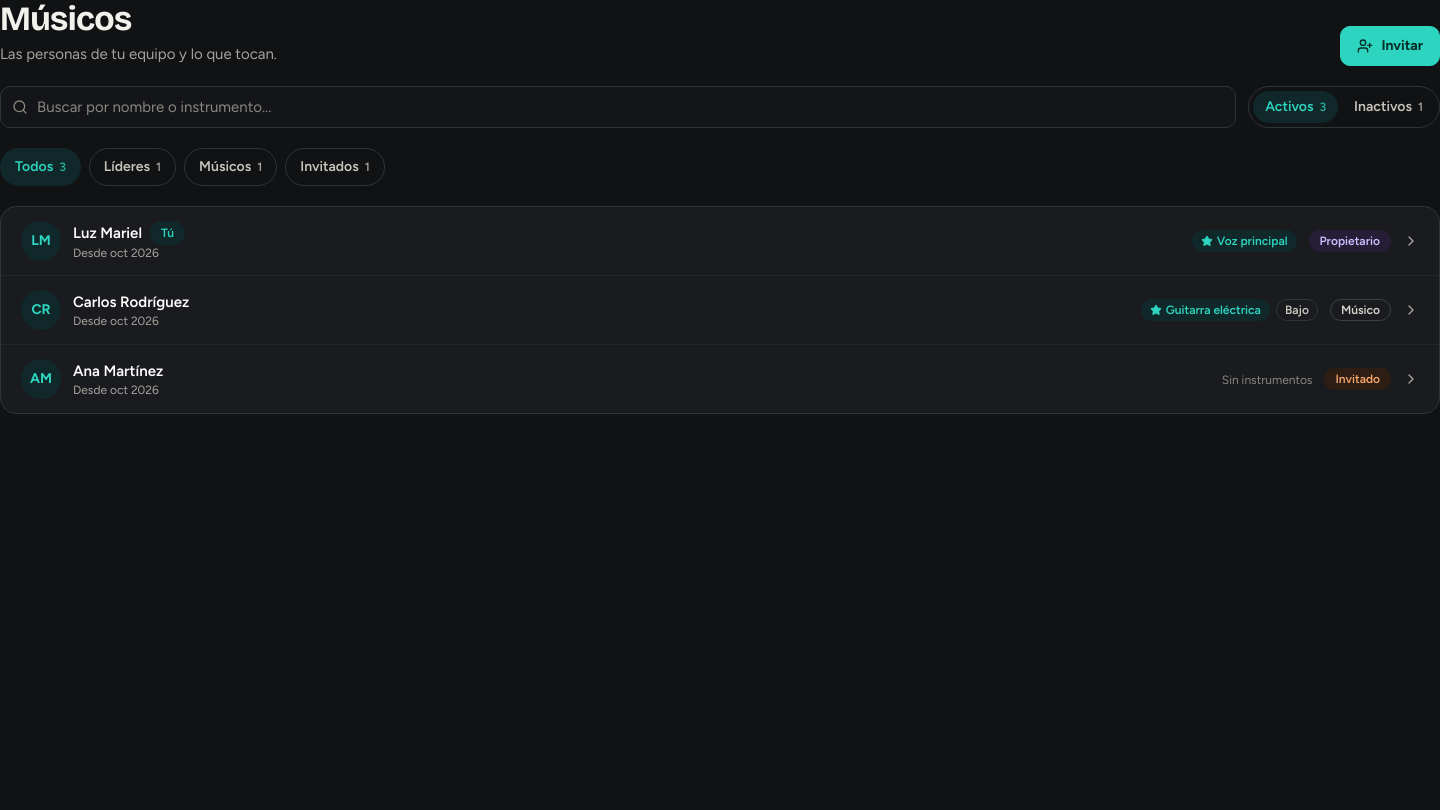
Test: MusiciansPage › muestra el error de la API al guardar
What coordinates should you click on to do the following:
click the button with aria-label "Ver ficha de Luz Mariel"
I would click on:
 (41, 241)
Its box is [1,207,1439,275].
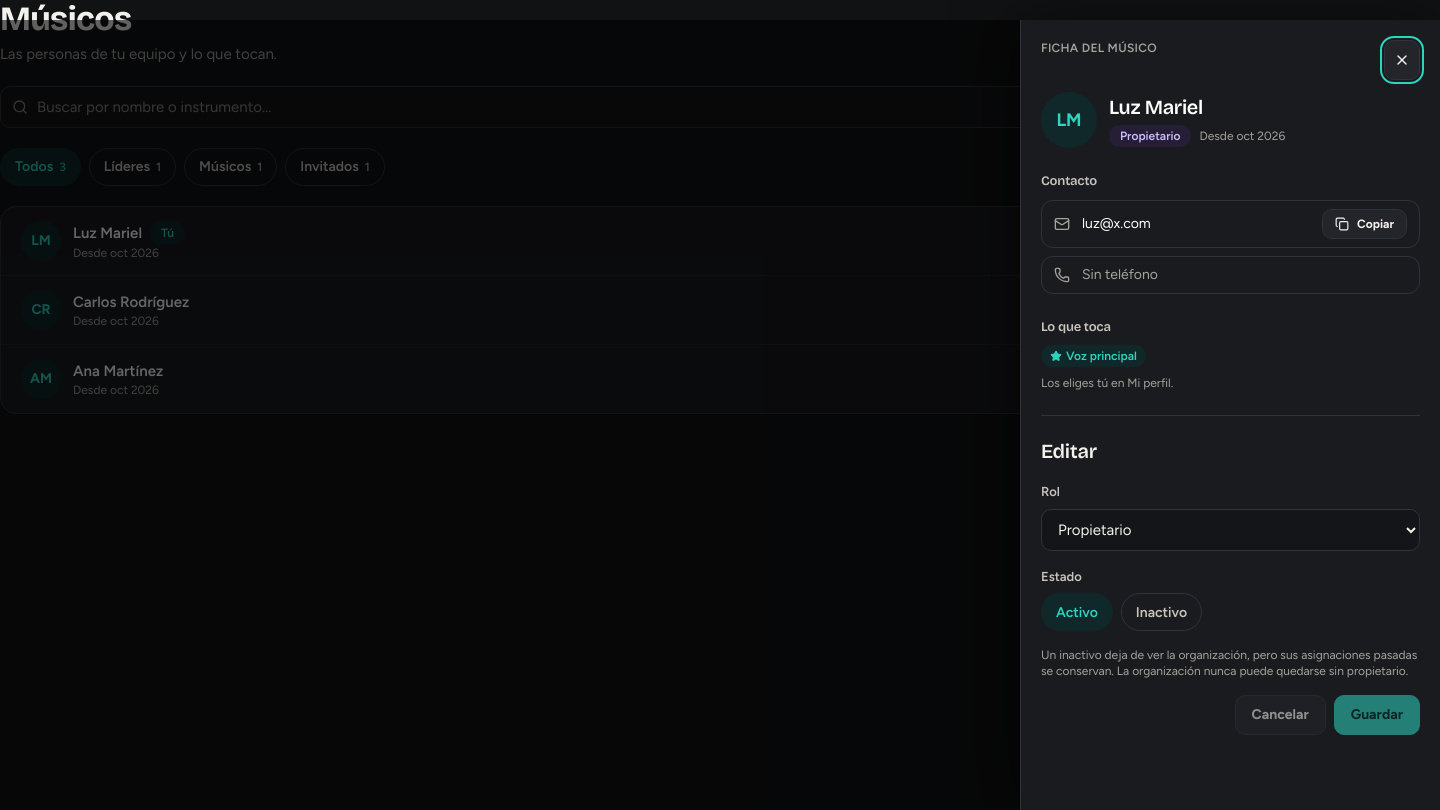
What coordinates should you click on to do the following:
click the button "Inactivo"
I would click on:
 (1161, 612)
Its box is [1121,593,1202,631].
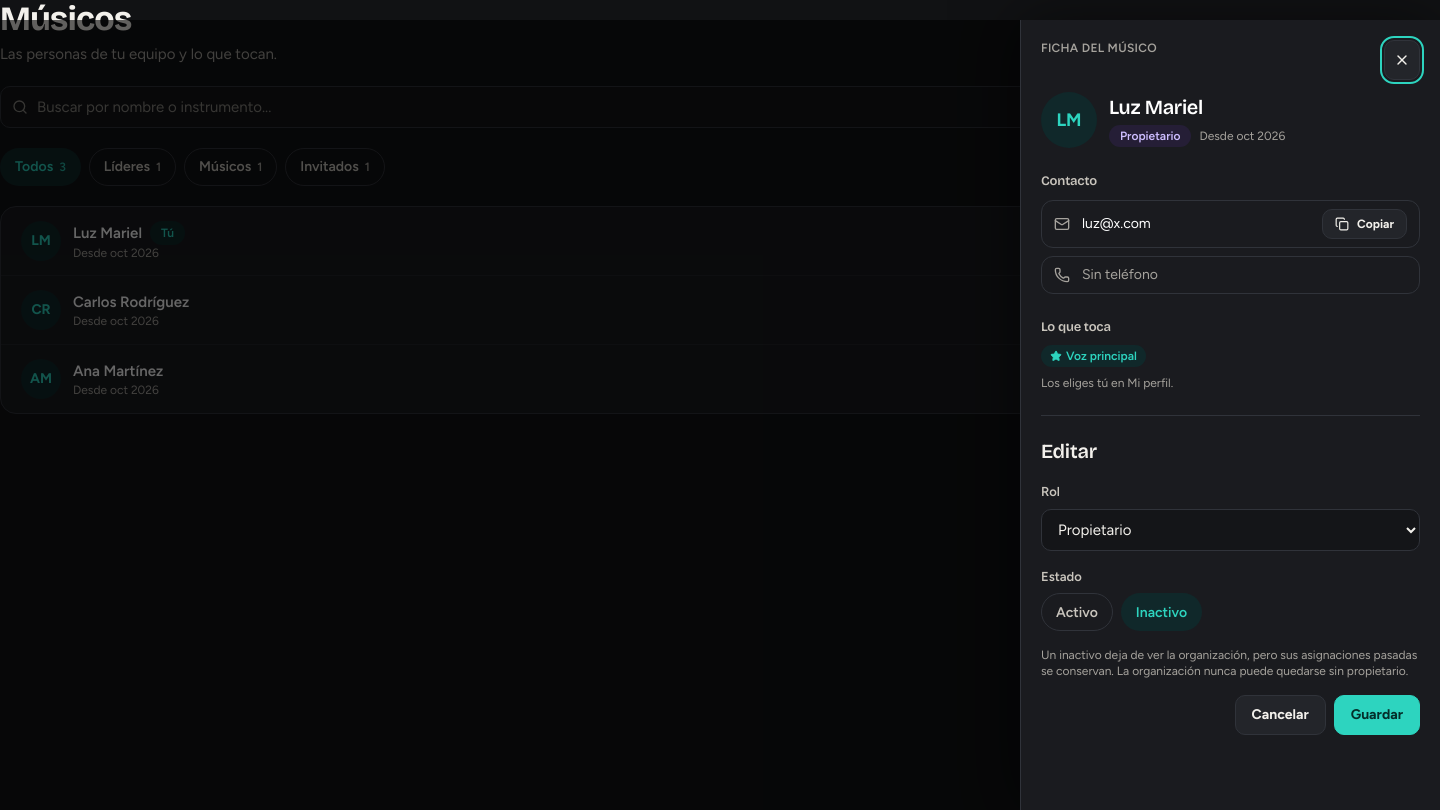
What coordinates should you click on to do the following:
click the button "Guardar"
I would click on:
 (1377, 715)
Its box is [1334,695,1420,735].
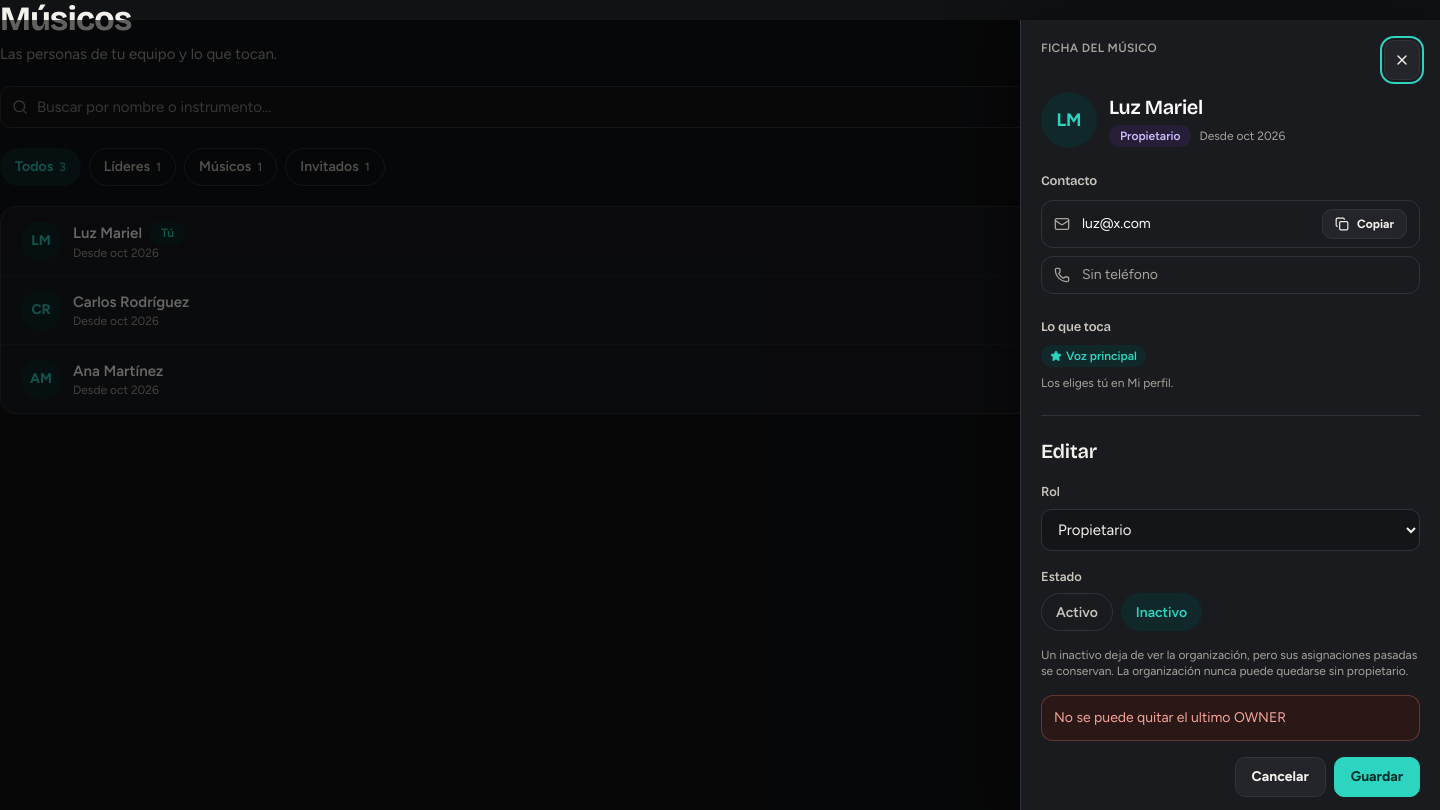
Expected: the message reads "No se puede quitar el ultimo OWNER", [1054,709,1286,726]
